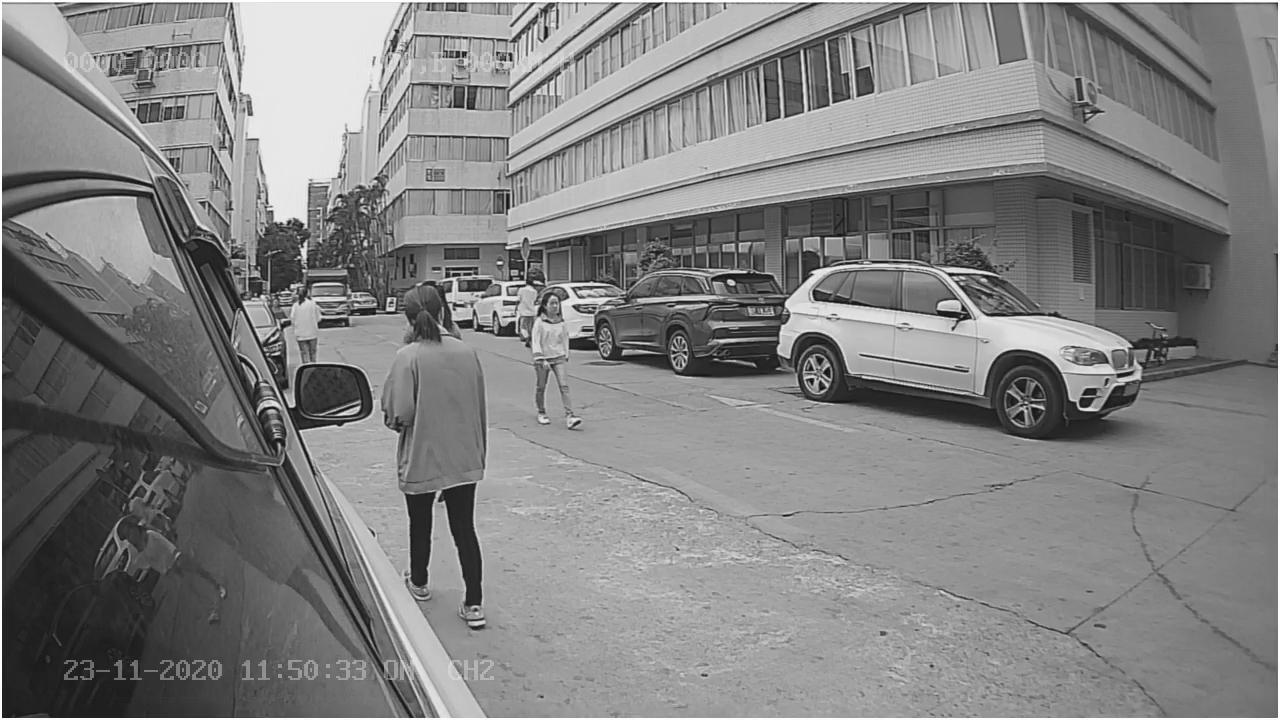person: (374, 287, 494, 454), (526, 286, 584, 433)
